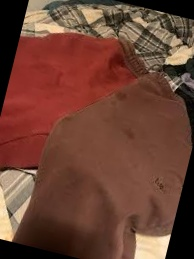oil: (149, 174, 168, 192), (120, 127, 137, 142), (119, 96, 130, 107)
